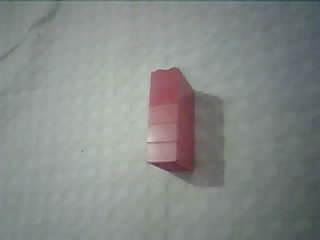lego: (145, 66, 195, 174)
